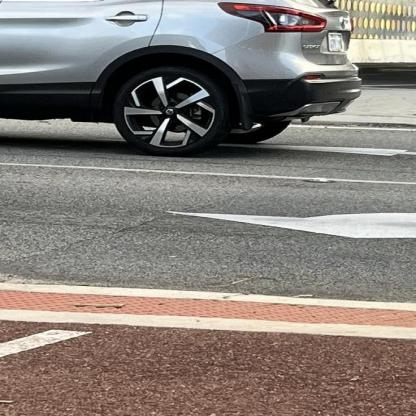Tire: (112, 64, 232, 157)
